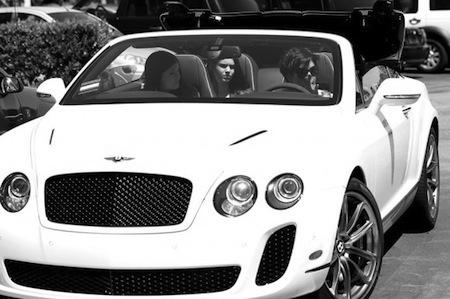car: (1, 31, 443, 299)
